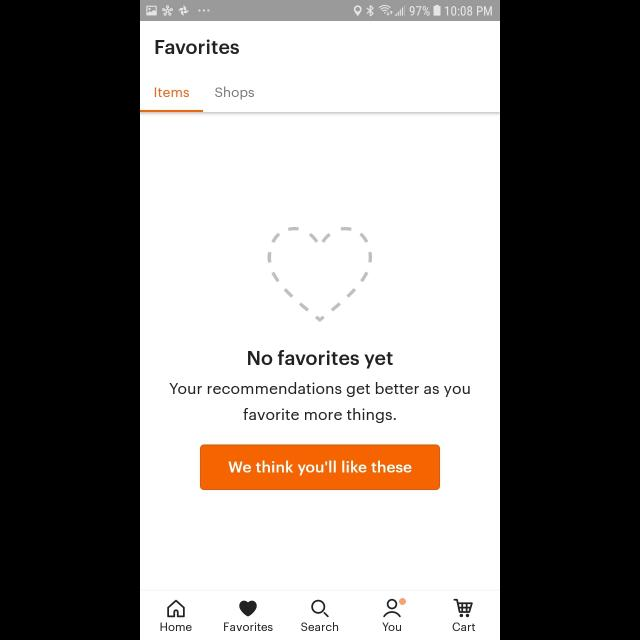icon: (384, 598, 406, 618), (453, 598, 472, 618), (311, 599, 329, 617), (167, 599, 185, 617), (239, 600, 257, 616)
image: (268, 228, 372, 322)
text: (170, 382, 470, 423), (248, 349, 392, 368), (156, 40, 240, 56), (216, 86, 254, 100), (224, 622, 274, 632), (301, 621, 339, 631), (154, 87, 190, 97), (162, 622, 192, 632), (452, 622, 476, 632), (382, 622, 402, 632)
textbutton: (200, 445, 440, 491)
uppertaskbar: (140, 1, 500, 22)
